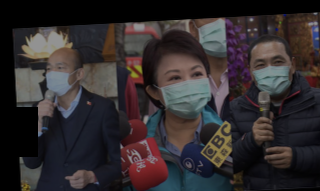with_mask: (156, 64, 212, 119), (250, 52, 293, 98), (45, 59, 79, 97)
